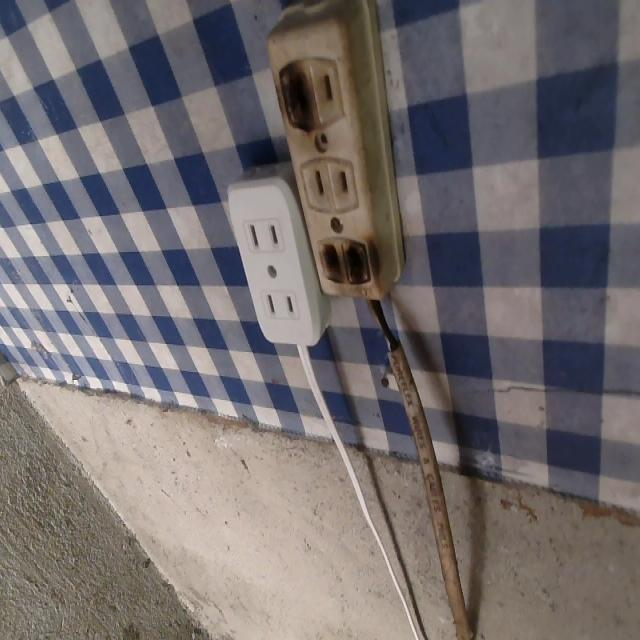-: (309, 230, 388, 302), (275, 59, 321, 134)
